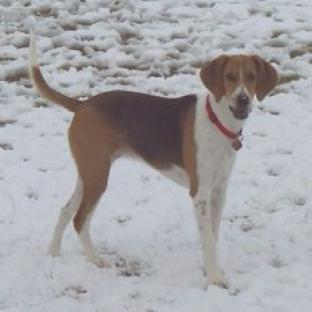Animal: (29, 35, 277, 286)
